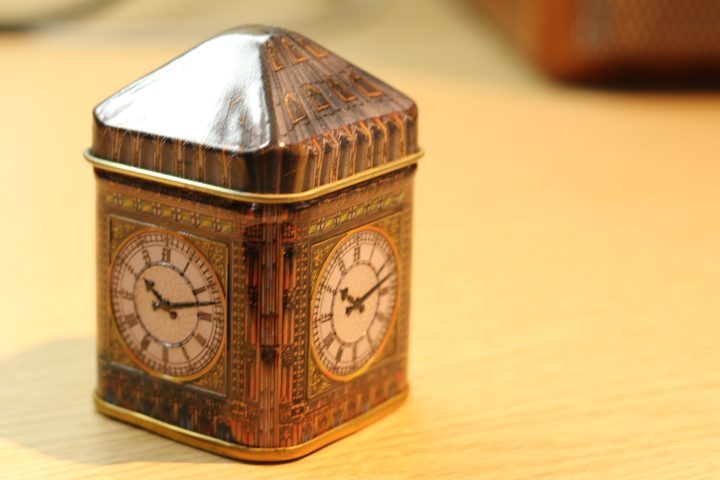Big Ben: (69, 12, 440, 469)
